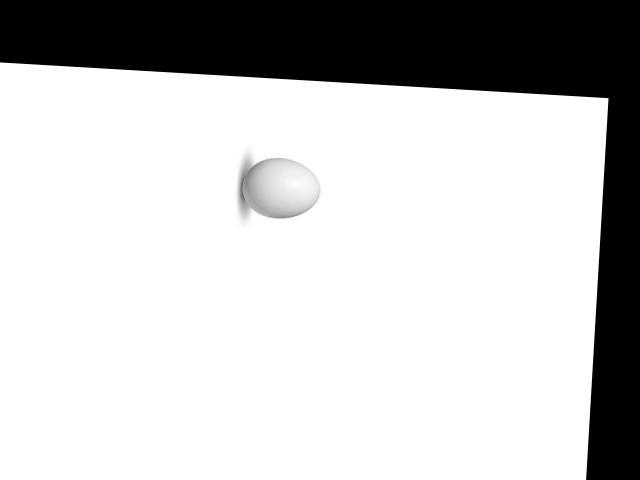egg: (241, 155, 322, 219)
